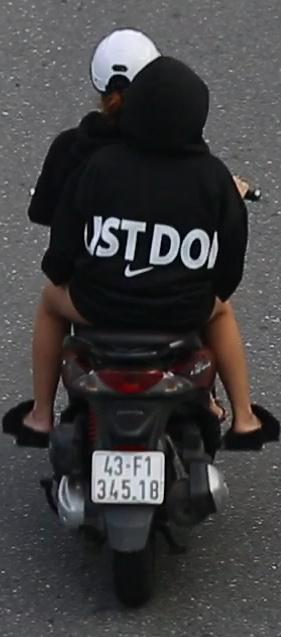LP: (88, 446, 168, 509)
helmet: (85, 20, 162, 104)
no helmet: (123, 53, 213, 157)
